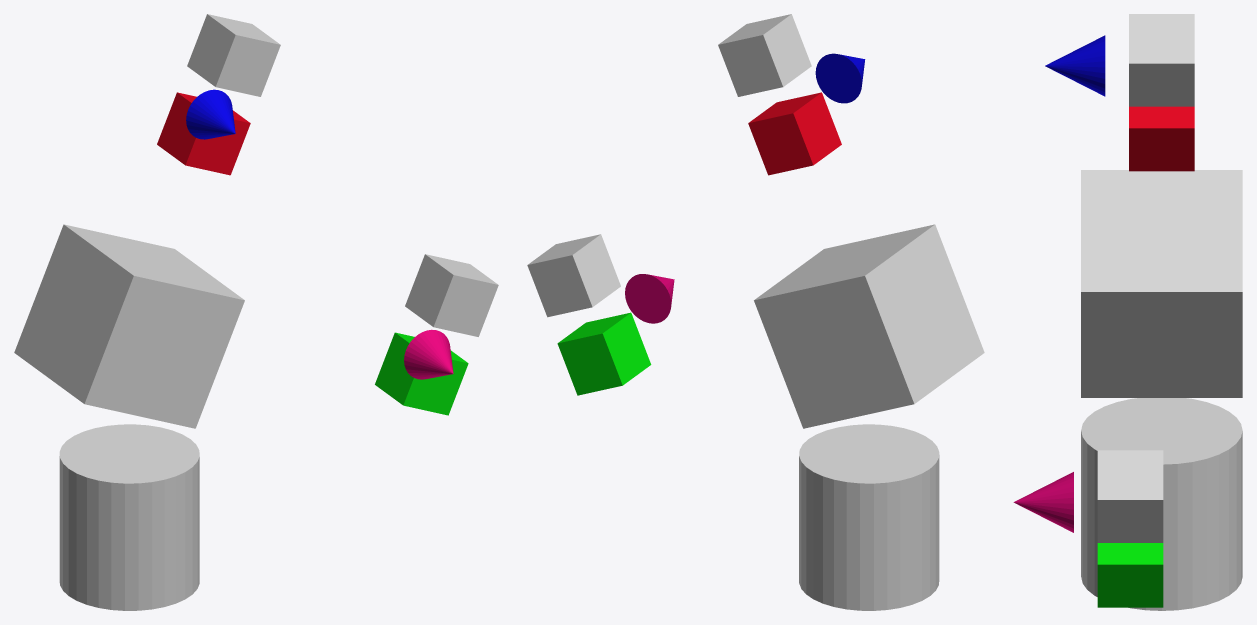
Rendered from transformHirTest.glb.
3 views of the same model, side by side, from view 1: azimuth 30°, elevation 25°; view 2: azimuth 150°, elevation 25°; view 3: azimuth 270°, elevation 25° (orthographic). The views are drawn at different scales.
Parts seen in each view (by area): view 1: Cube, Cylinder, Cube.002, Cube.004, green, red, Cone, Cone.001; view 2: Cube, Cylinder, Cube.002, green, Cube.004, red, Cone, Cone.001; view 3: Cube, Cylinder, Cube.004, Cube.002, red, green, Cone, Cone.001.
Part boxes in pixels (<box>): Cube: <box>14,224,244,428</box>; Cylinder: <box>59,424,199,610</box>; Cube.002: <box>187,14,280,96</box>; Cube.004: <box>405,254,498,336</box>; green: <box>375,332,468,415</box>; red: <box>157,92,250,175</box>; Cone: <box>186,89,235,139</box>; Cone.001: <box>404,329,453,379</box>; Cube: <box>754,224,984,428</box>; Cylinder: <box>799,424,939,610</box>; Cube.002: <box>718,14,811,96</box>; green: <box>557,312,651,395</box>; Cube.004: <box>527,234,620,317</box>; red: <box>748,92,841,175</box>; Cone: <box>815,53,865,103</box>; Cone.001: <box>625,274,674,323</box>; Cube: <box>1081,170,1242,397</box>; Cylinder: <box>1081,398,1242,610</box>; Cube.004: <box>1097,450,1163,542</box>; Cube.002: <box>1129,14,1194,106</box>; red: <box>1129,106,1194,171</box>; green: <box>1097,543,1163,607</box>; Cone: <box>1045,35,1105,96</box>; Cone.001: <box>1013,472,1073,532</box>.
Size of the model in its own units: 6.93 by 8.39 by 2.84.
